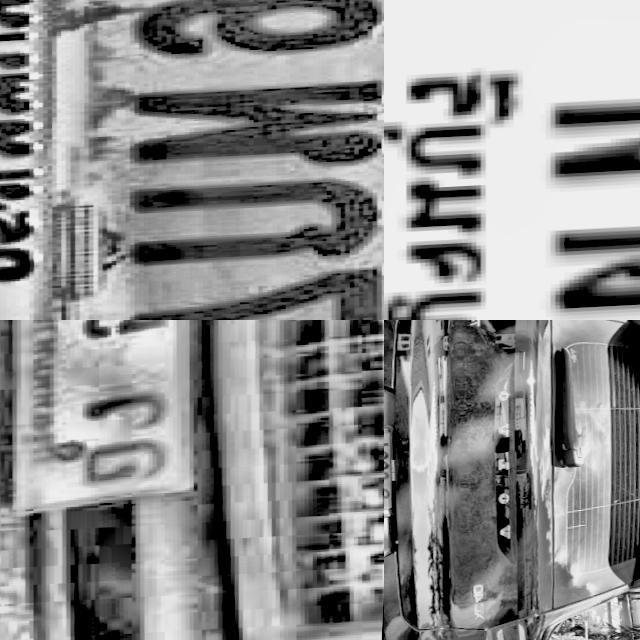license-plate: (0, 0, 384, 320), (384, 0, 640, 320), (0, 320, 231, 530), (384, 422, 409, 520)
